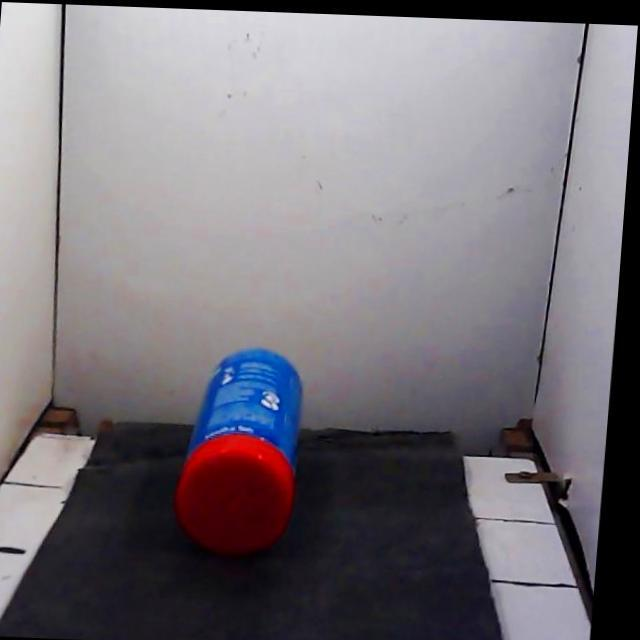plastico: (175, 349, 301, 554)
